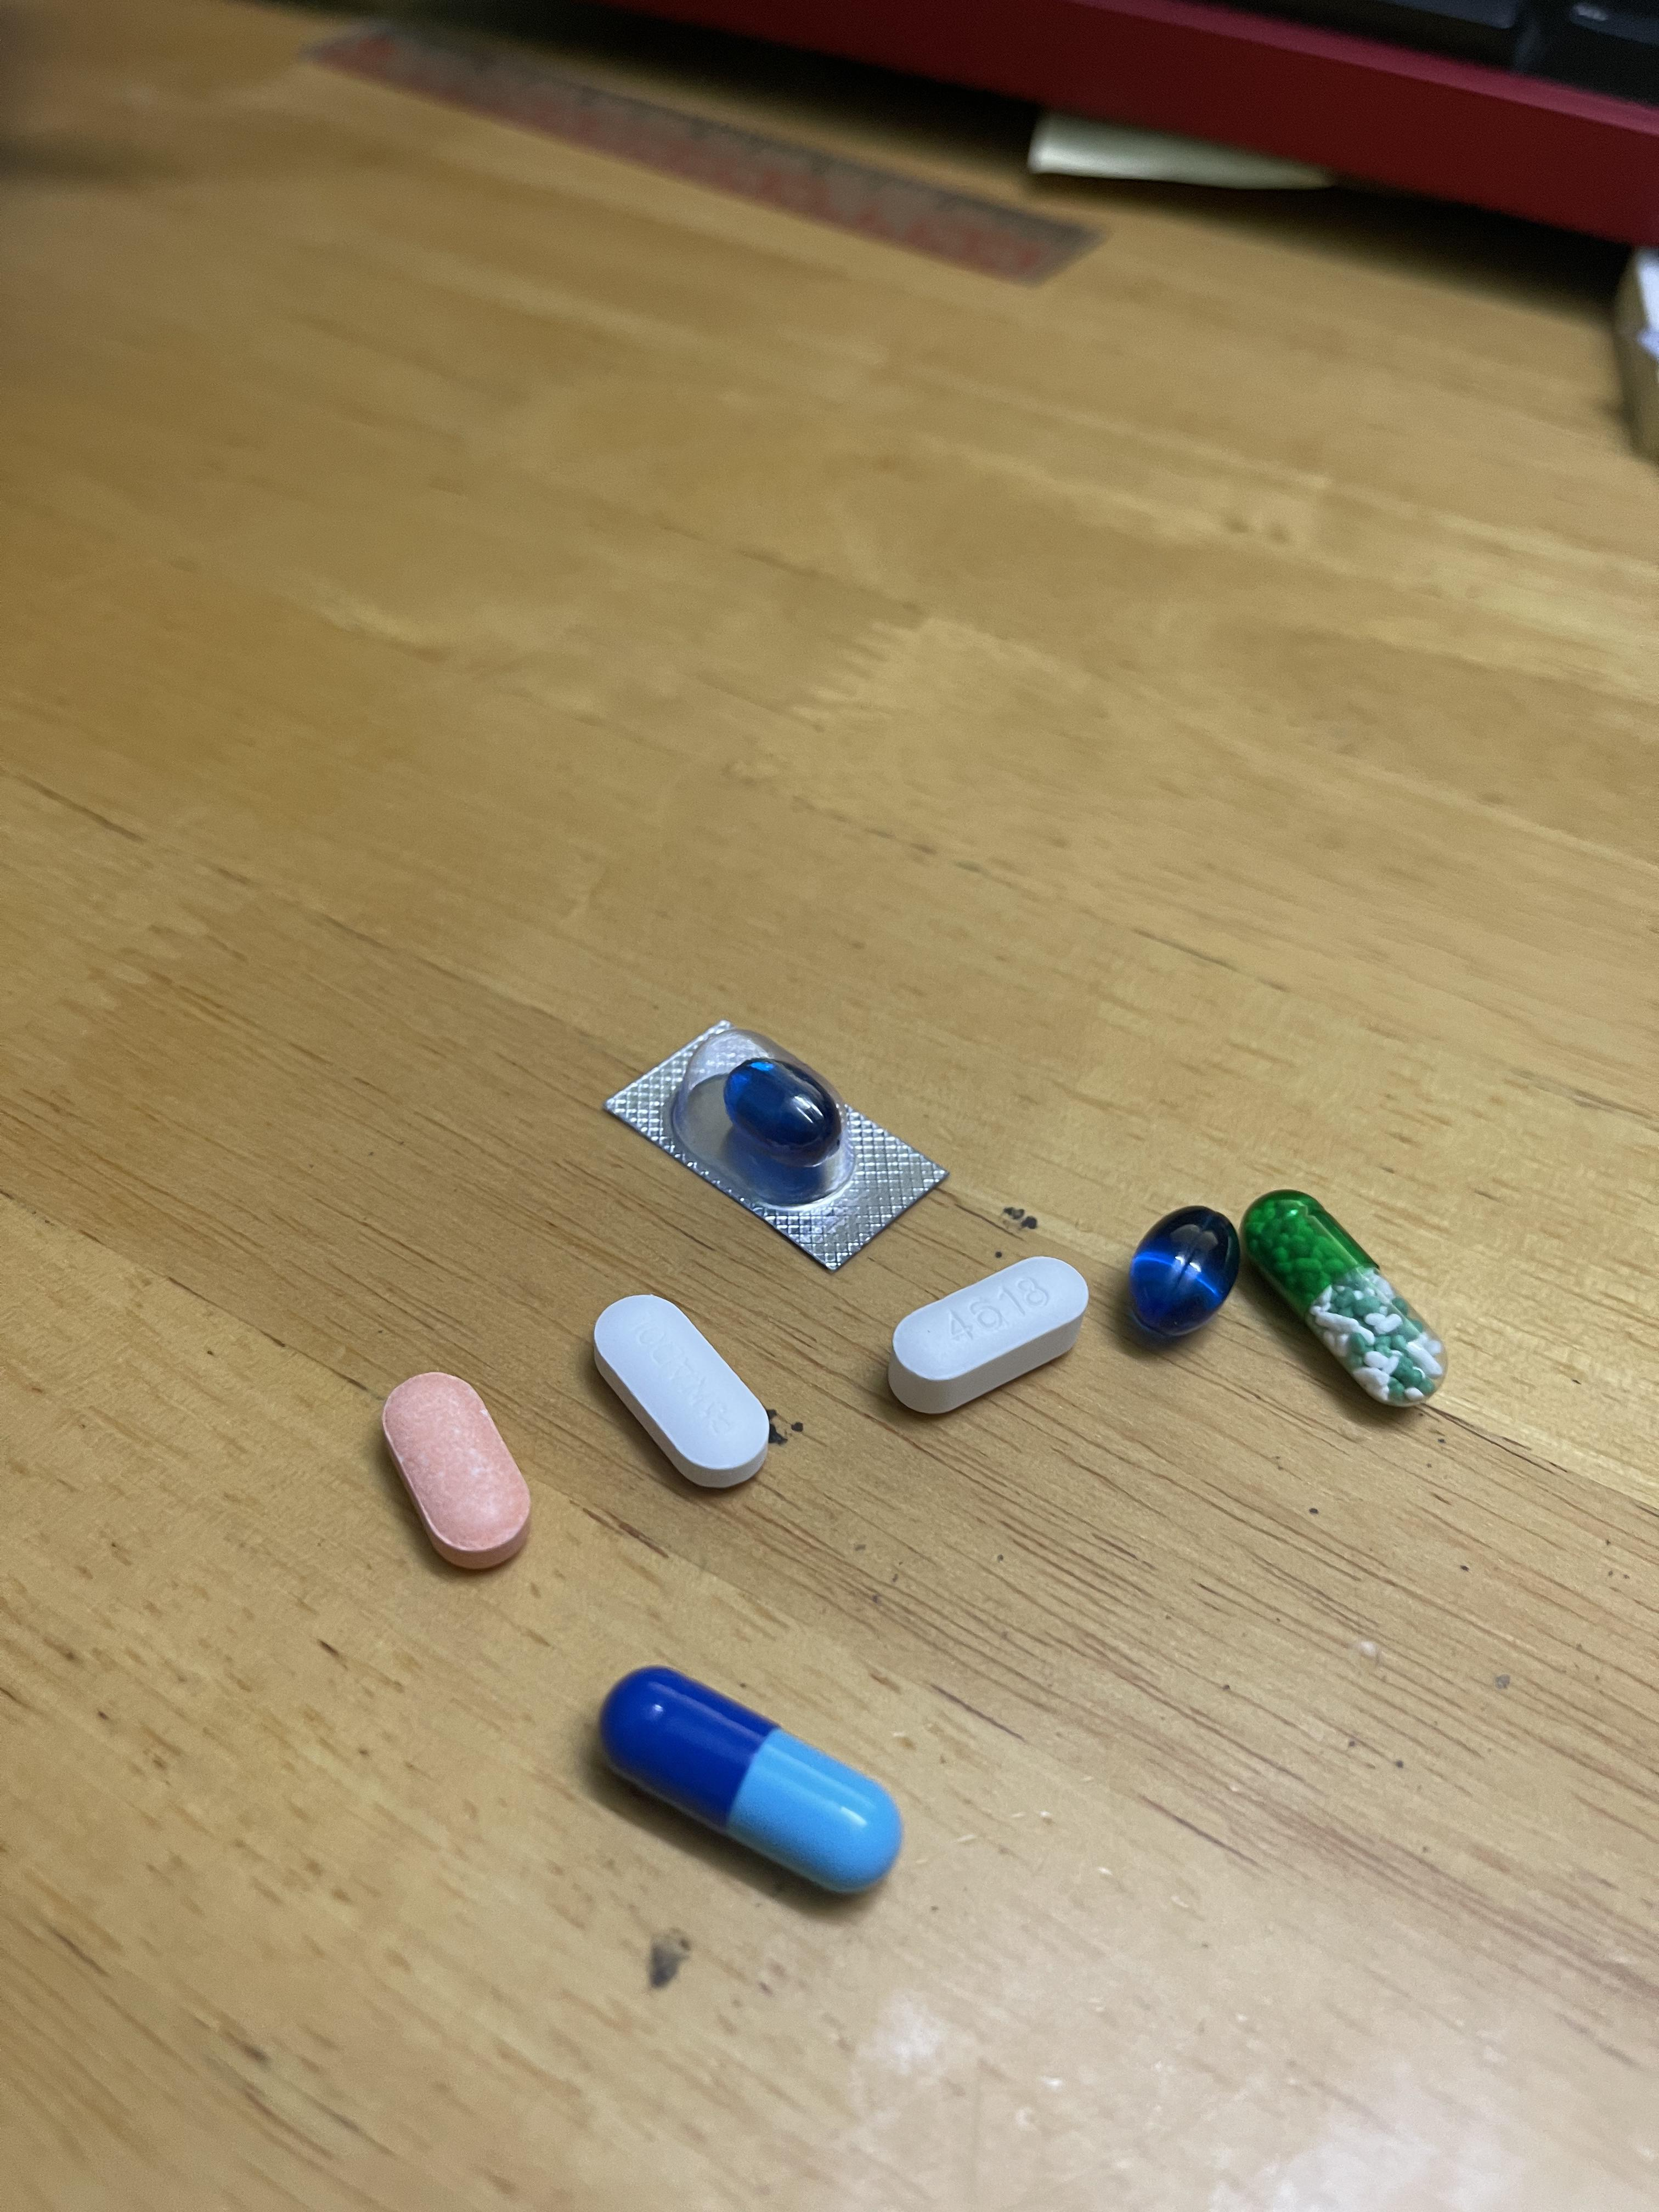Lincomyxin_500mg: (1129, 1204, 1239, 1336), (723, 1055, 843, 1162)
Loratadine_10mg: (382, 1374, 533, 1559)
Paracetamol_350mg: (598, 1296, 770, 1479)
Paracetamol_500mg: (892, 1252, 1084, 1392)
Paracetamol_650mg: (1249, 1195, 1439, 1399)
pill: (605, 1674, 890, 1888)
